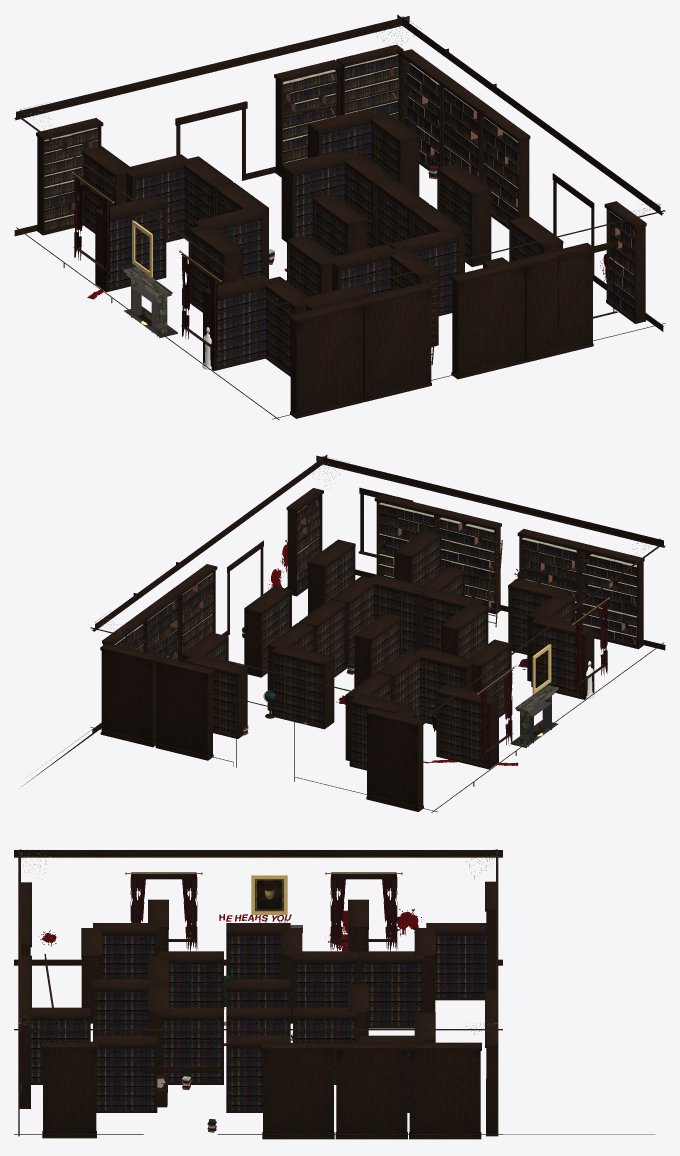
Rendered from dark_library.glb.
3 renders of one model, top to bottom at view 1: azimuth 30°, elevation 25°; view 2: azimuth 150°, elevation 25°; view 3: azimuth 270°, elevation 25°, orthographic. The views are drawn at different scales.
Parts seen in each view (by area): view 1: dark_library; view 2: dark_library; view 3: dark_library.
Part boxes in pixels (x1=…): dark_library: x1=14, y1=14, x2=665, y2=419; dark_library: x1=23, y1=454, x2=665, y2=812; dark_library: x1=14, y1=849, x2=654, y2=1139.
Bounding box in the file's own units: 19.54 × 5.89 × 29.34.
Materials: 34 (24 with a texture image).
